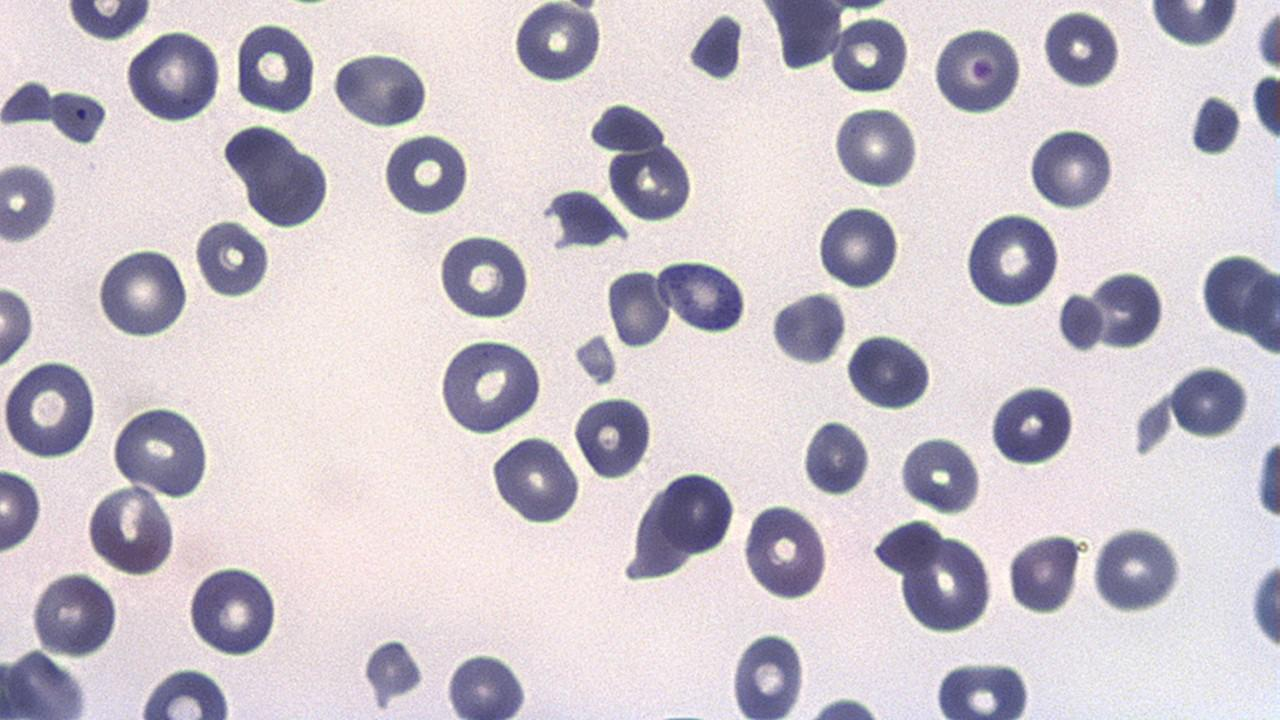Platelets: (1086, 528, 1186, 616), (506, 3, 604, 88), (570, 392, 658, 479), (728, 628, 808, 718), (438, 647, 539, 717), (1004, 532, 1082, 615), (191, 220, 273, 298), (766, 287, 848, 364), (800, 418, 873, 498), (0, 160, 60, 248), (542, 187, 626, 249), (361, 634, 427, 710), (585, 101, 671, 155), (686, 11, 746, 84), (1187, 93, 1243, 161), (47, 87, 110, 146), (63, 1, 149, 40), (1056, 291, 1106, 351), (1252, 432, 1280, 524), (572, 334, 620, 386), (1132, 397, 1174, 454), (1248, 74, 1280, 144), (1254, 4, 1280, 77)
RBC: (435, 334, 545, 435), (960, 208, 1063, 308), (1, 357, 100, 460), (898, 530, 992, 638), (110, 401, 214, 497), (125, 28, 222, 125), (186, 560, 282, 658), (96, 242, 190, 340), (1087, 524, 1185, 616), (740, 501, 828, 603), (930, 24, 1024, 118), (84, 483, 178, 576), (489, 432, 582, 526), (435, 231, 532, 321), (330, 48, 432, 129), (31, 568, 119, 660), (379, 130, 472, 217), (508, 2, 605, 85), (234, 19, 317, 116), (1025, 125, 1115, 212), (832, 102, 920, 189), (987, 382, 1075, 468), (726, 627, 810, 716), (816, 202, 900, 291), (572, 391, 656, 479), (604, 142, 696, 222), (844, 332, 934, 412), (897, 432, 982, 514), (1041, 5, 1121, 92), (2, 642, 91, 718), (1006, 529, 1082, 617), (192, 217, 273, 299), (443, 646, 532, 720), (830, 13, 910, 95), (1201, 247, 1273, 338), (1087, 269, 1167, 350), (930, 658, 1037, 718), (766, 290, 846, 368), (1169, 362, 1249, 440), (668, 259, 751, 334), (606, 266, 673, 349), (0, 160, 59, 246), (870, 515, 943, 578), (1149, 0, 1239, 48), (64, 0, 153, 43), (0, 466, 43, 554), (48, 86, 110, 145), (0, 282, 36, 373), (1243, 267, 1279, 357), (1253, 3, 1279, 75)
WBC: (392, 0, 1280, 720), (619, 466, 741, 585), (435, 331, 546, 437), (960, 207, 1065, 309), (238, 128, 334, 230), (379, 131, 474, 220), (843, 330, 935, 411), (605, 142, 695, 223), (768, 287, 847, 367), (686, 10, 744, 84), (1249, 552, 1279, 657), (1253, 432, 1280, 528)
